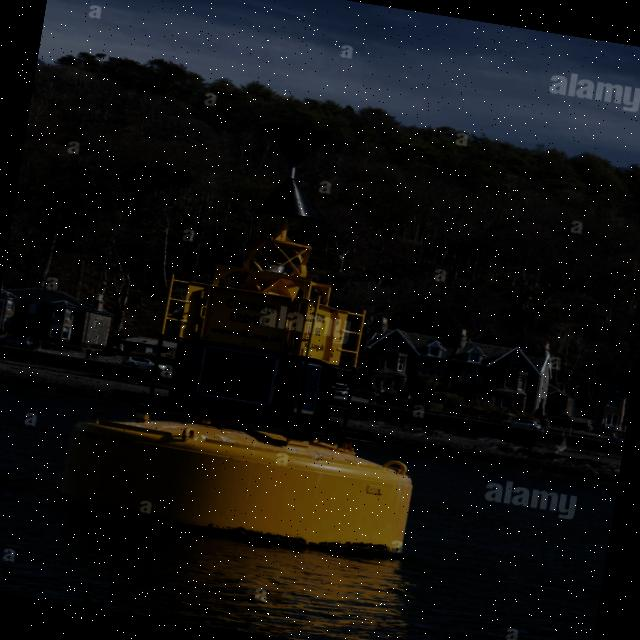marque: (41, 90, 467, 563)
